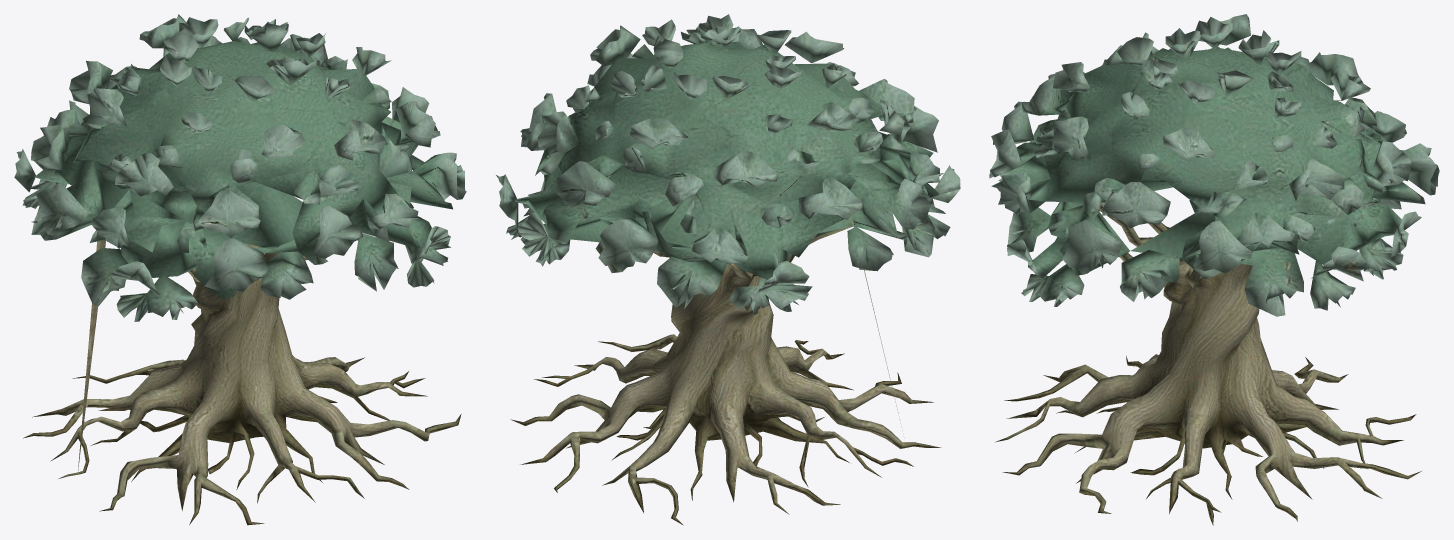
File: broadleaf_oak.glb
The picture shows the model from 3 angles, left to right: view 1: azimuth 30°, elevation 25°; view 2: azimuth 150°, elevation 25°; view 3: azimuth 270°, elevation 25°; orthographic projection.
Size of the model in its own units: 2.5 by 2.5 by 2.5.
1 material, 1 textured.
